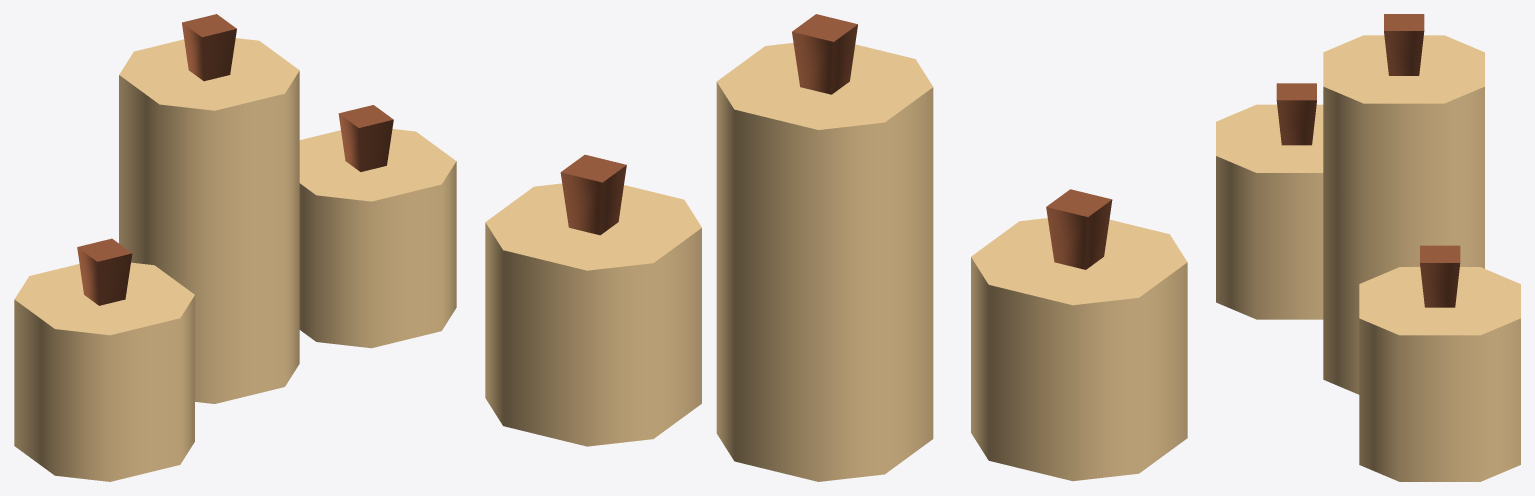
Rendered from candleMultiple.obj.
3 views of the same model, side by side, from view 1: azimuth 30°, elevation 25°; view 2: azimuth 150°, elevation 25°; view 3: azimuth 270°, elevation 25° (orthographic). The views are drawn at different scales.
Visible parts, largest first — view 1: candleMultiple; view 2: candleMultiple; view 3: candleMultiple.
Part boxes in pixels (x1=…): candleMultiple: x1=14, y1=14, x2=456, y2=481; candleMultiple: x1=485, y1=14, x2=1187, y2=481; candleMultiple: x1=1216, y1=14, x2=1520, y2=481.
Size of the model in its own units: 0.1688 by 0.116 by 0.0943.
